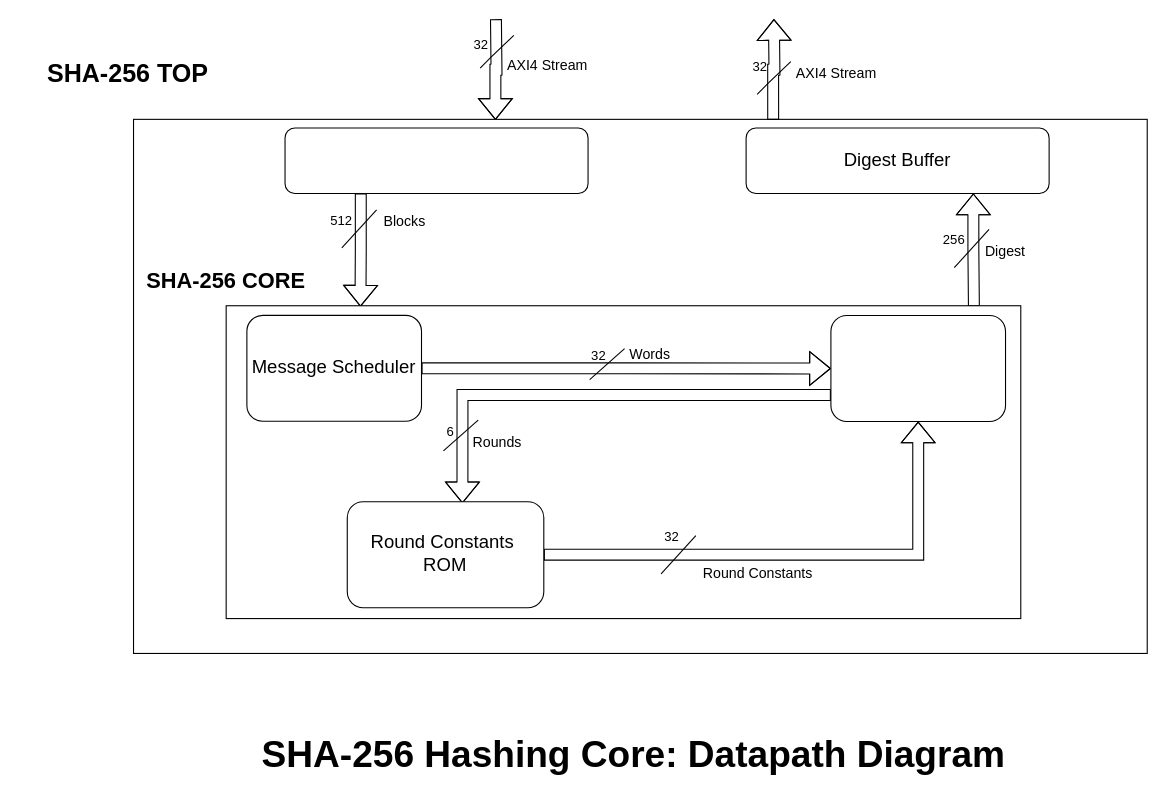
Image size: 1166x796. Some labels were removed from this diagram. Each missing label, with the centre of its shape:
"Hashing Core" goes at (918,368).
"Message Preprocessing Unit" goes at (436,160).
